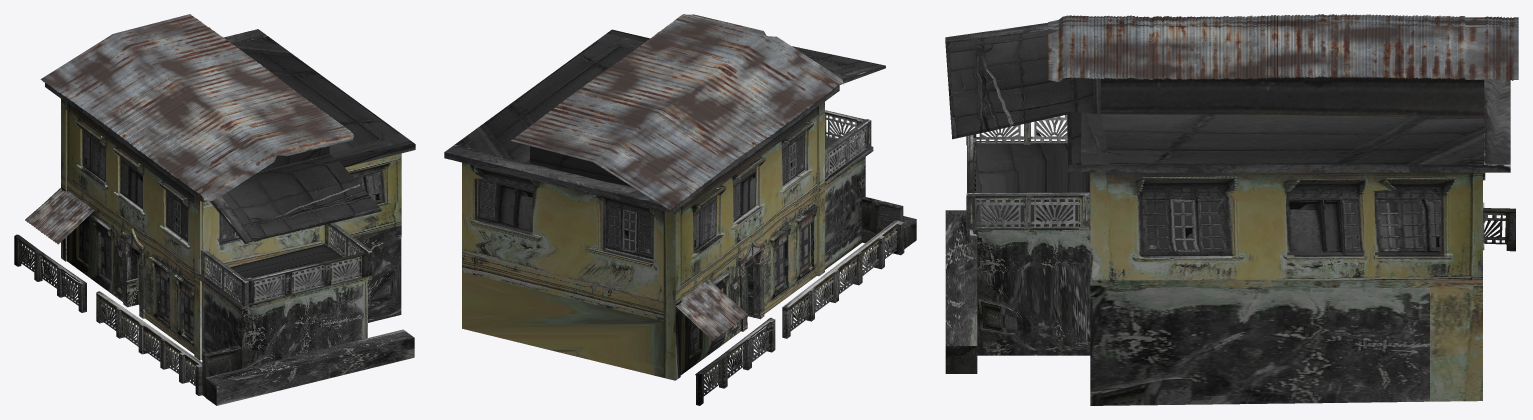
Rendered from 2poles-v1.glb.
The picture shows the model from 3 angles, left to right: view 1: azimuth 30°, elevation 25°; view 2: azimuth 150°, elevation 25°; view 3: azimuth 270°, elevation 25°; orthographic projection. The views are drawn at different scales.
Visible parts, largest first — view 1: Building_Main_Base, Roof_01; view 2: Building_Main_Base, Roof_01; view 3: Building_Main_Base, Roof_01.
Part boxes in pixels (bbox=[...]): Building_Main_Base: bbox=[14, 29, 415, 405]; Roof_01: bbox=[25, 14, 353, 244]; Building_Main_Base: bbox=[444, 29, 916, 405]; Roof_01: bbox=[511, 14, 843, 340]; Building_Main_Base: bbox=[945, 23, 1515, 405]; Roof_01: bbox=[1048, 14, 1518, 82].
Size of the model in its own units: 11.18 by 9.08 by 16.08.
Materials: 3 (3 with a texture image).
